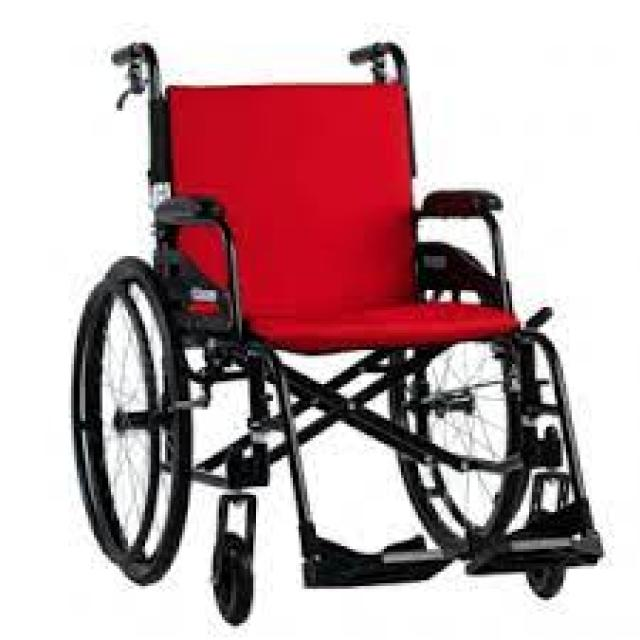wheelchairs: (54, 34, 603, 629)
